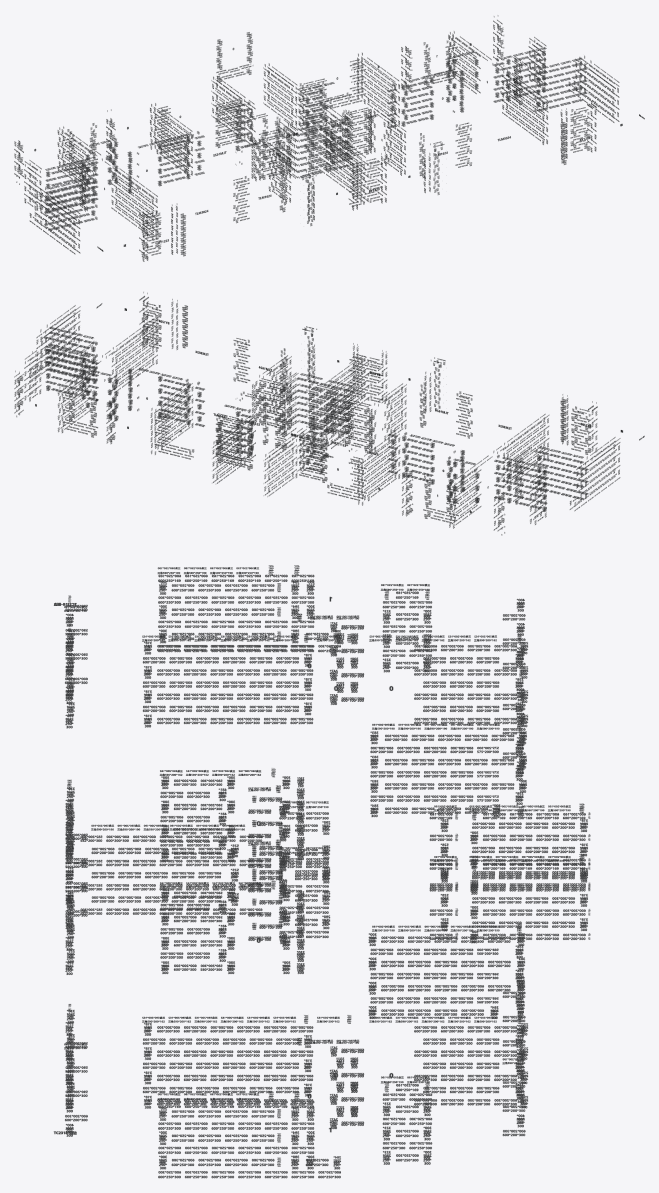
Rendered from labels.glb.
The picture shows the model from 3 angles, top to bottom: view 1: azimuth 30°, elevation 25°; view 2: azimuth 150°, elevation 25°; view 3: azimuth 270°, elevation 25°; orthographic projection. The views are drawn at different scales.
Parts seen in each view (by area): view 1: L_F02; view 2: L_F02; view 3: L_F02.
Boxes of the visible parts, x1,y1,x2,y2 form: L_F02: (14, 15, 644, 261); L_F02: (14, 292, 644, 535); L_F02: (53, 565, 590, 1178).
Bounding box in the file's own units: 28.4 × 3.6 × 12.85.
Materials: 1 (1 with a texture image).
